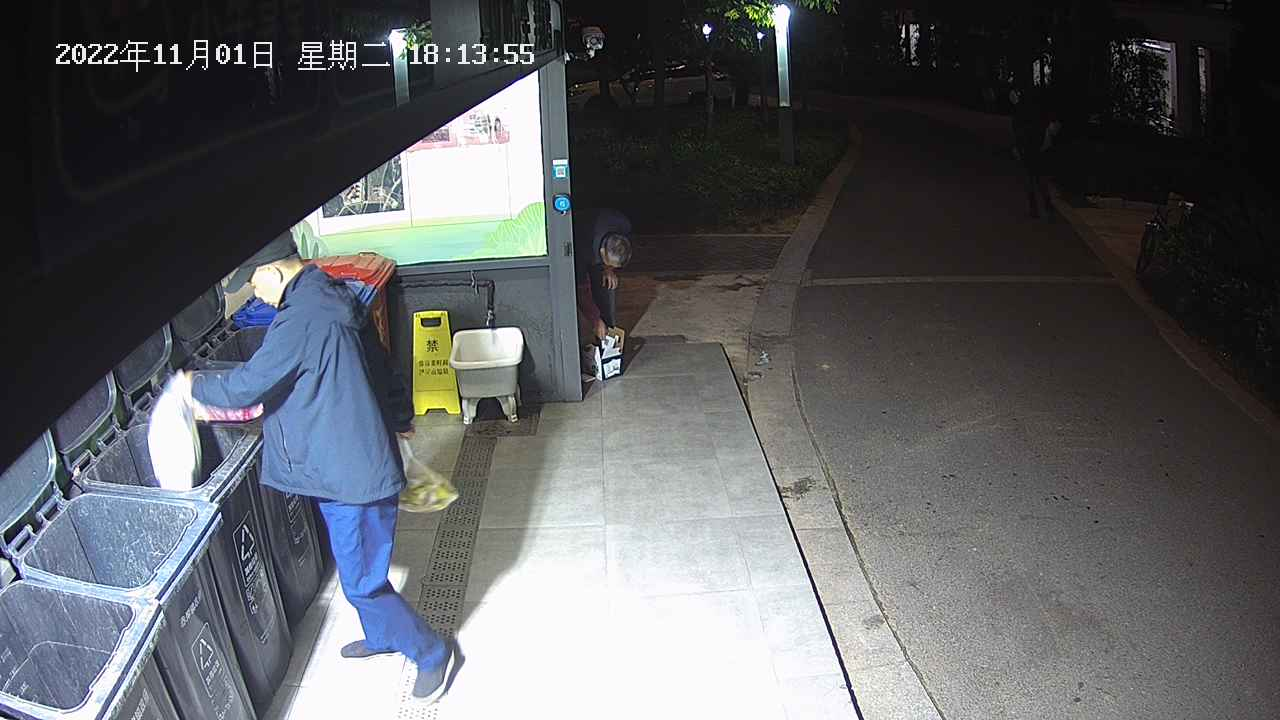garbage-bag: (144, 365, 204, 493), (392, 430, 461, 515)
person: (179, 227, 458, 701)
